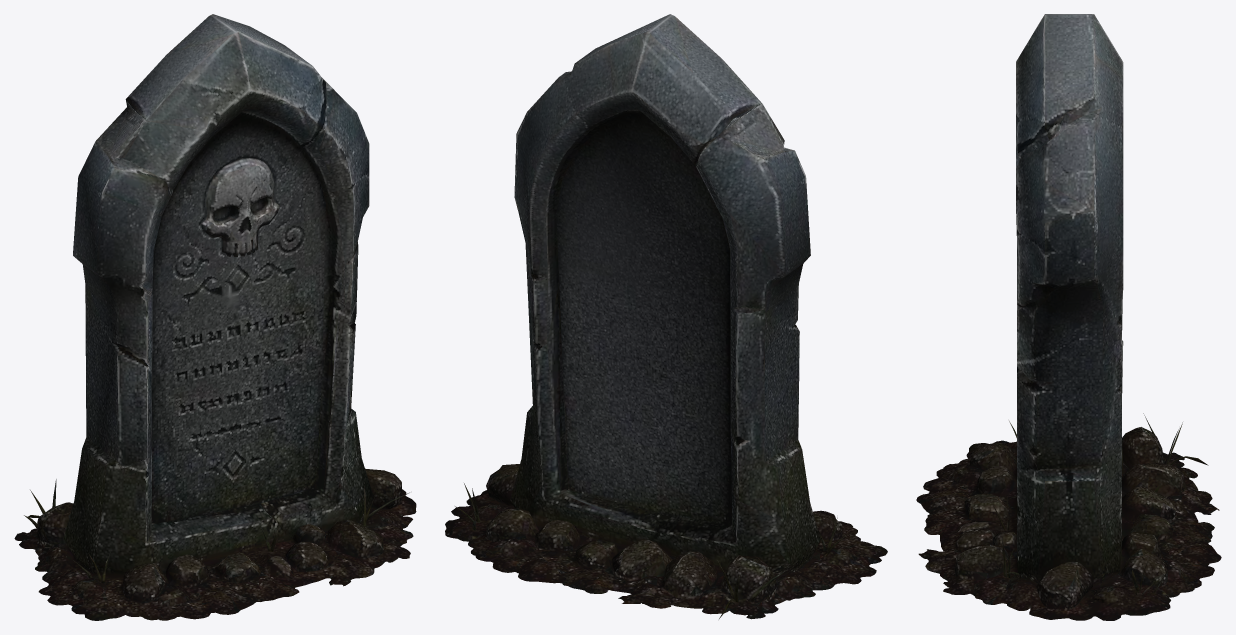
Rendered from stone+tombstone+3d+model.glb.
The picture shows the model from 3 angles, left to right: view 1: azimuth 30°, elevation 25°; view 2: azimuth 150°, elevation 25°; view 3: azimuth 270°, elevation 25°; orthographic projection.
Visible parts, largest first — view 1: tripo_node_7f68737a-8d15-41b1-9186-0dedf8306820; view 2: tripo_node_7f68737a-8d15-41b1-9186-0dedf8306820; view 3: tripo_node_7f68737a-8d15-41b1-9186-0dedf8306820.
Boxes of the visible parts, left/top/right/bottom form: tripo_node_7f68737a-8d15-41b1-9186-0dedf8306820: left=14, top=14, right=416, bottom=620; tripo_node_7f68737a-8d15-41b1-9186-0dedf8306820: left=445, top=14, right=887, bottom=619; tripo_node_7f68737a-8d15-41b1-9186-0dedf8306820: left=916, top=14, right=1221, bottom=620.
Size of the model in its own units: 0.7676 by 0.998 by 0.5332.
Materials: 1 (1 with a texture image).
